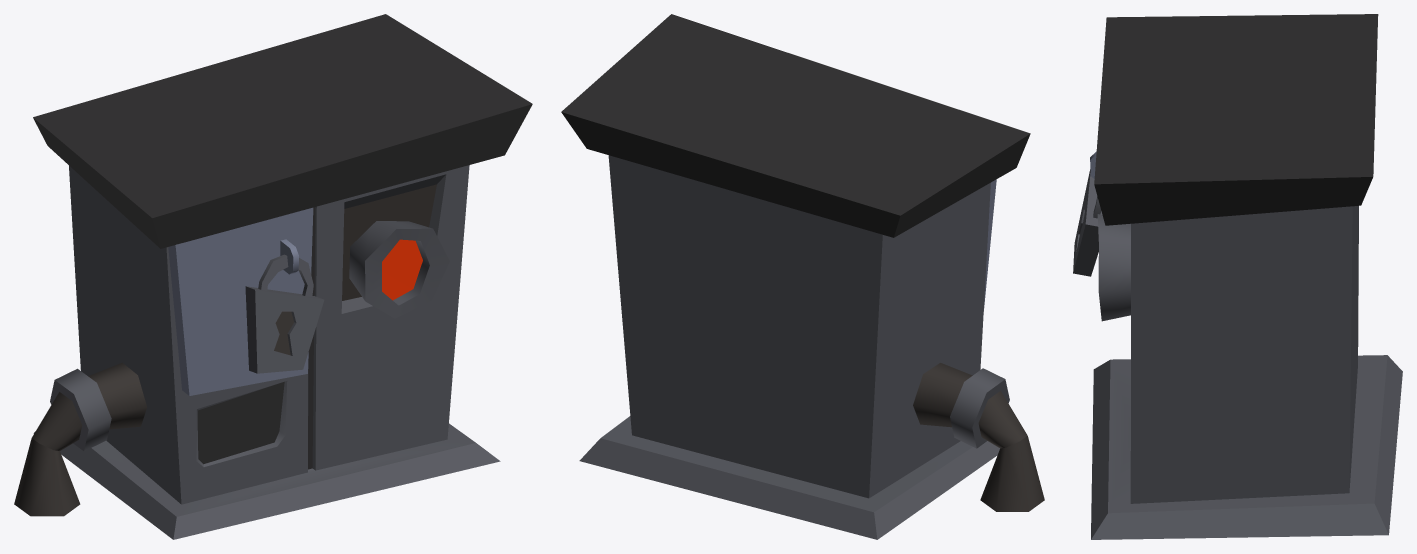
File: Throwable_Powerbox_Floor_projectile.fbx
3 renders of one model, left to right at view 1: azimuth 30°, elevation 25°; view 2: azimuth 150°, elevation 25°; view 3: azimuth 270°, elevation 25°, orthographic. The views are drawn at different scales.
Parts seen in each view (by area): view 1: Throwable_Powerbox_Floor_projectile; view 2: Throwable_Powerbox_Floor_projectile; view 3: Throwable_Powerbox_Floor_projectile.
Boxes of the visible parts, box(x1,y1,x2,y2) form: Throwable_Powerbox_Floor_projectile: box(14, 14, 532, 539); Throwable_Powerbox_Floor_projectile: box(561, 14, 1044, 539); Throwable_Powerbox_Floor_projectile: box(1073, 14, 1402, 539).
Size of the model in its own units: 1.69 by 1.27 by 1.02.
